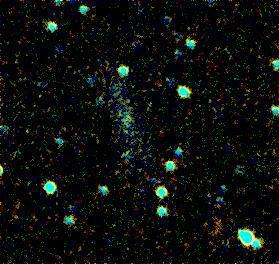star: (202, 209, 232, 239)
